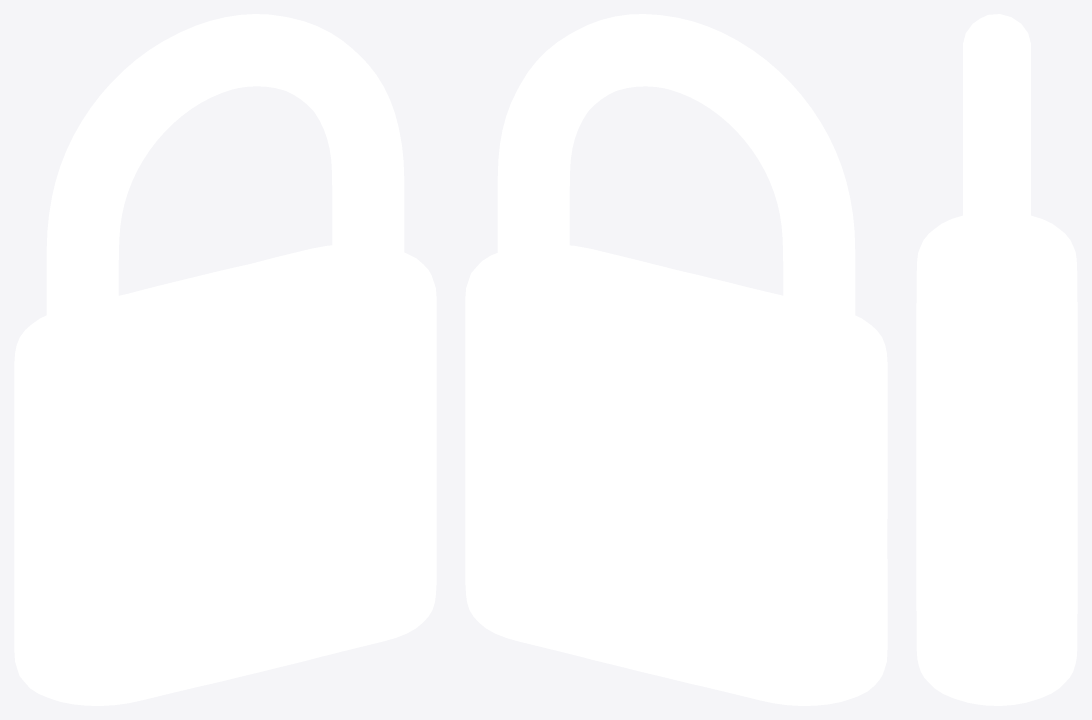
File: lock.glb
3 views of the same model, side by side, from view 1: azimuth 30°, elevation 25°; view 2: azimuth 150°, elevation 25°; view 3: azimuth 270°, elevation 25° (orthographic). The views are drawn at different scales.
Visible parts, largest first — view 1: lock; view 2: lock; view 3: lock.
Boxes of the visible parts, <box> form: lock: <box>14,14,436,705</box>; lock: <box>465,14,887,705</box>; lock: <box>916,14,1077,705</box>.
Size of the model in its own units: 2.08 by 3.11 by 0.7707.
Materials: 1 (1 with a texture image).
